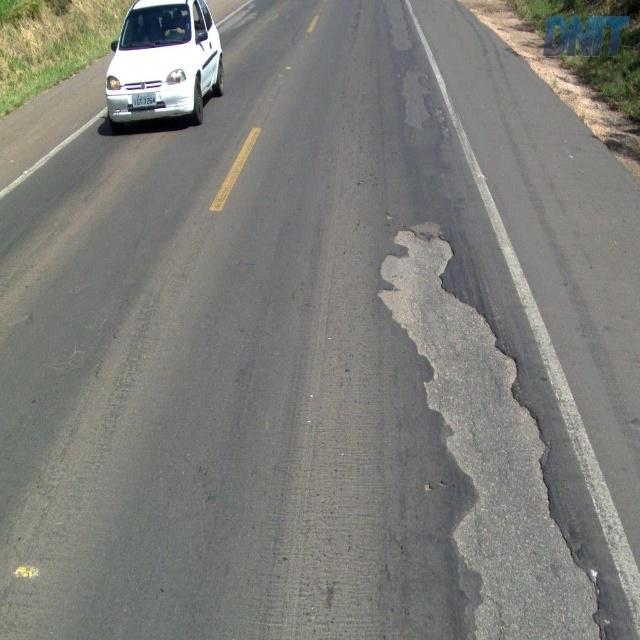pothole: (367, 209, 612, 639), (394, 59, 434, 133), (379, 0, 415, 51)
